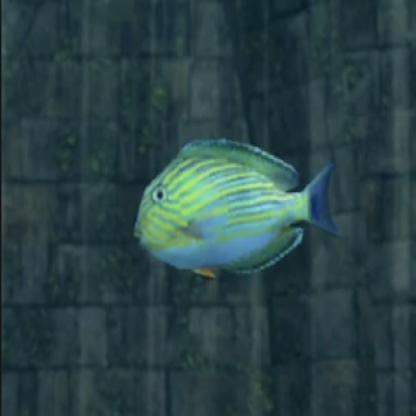surgeon: (131, 140, 344, 285)
